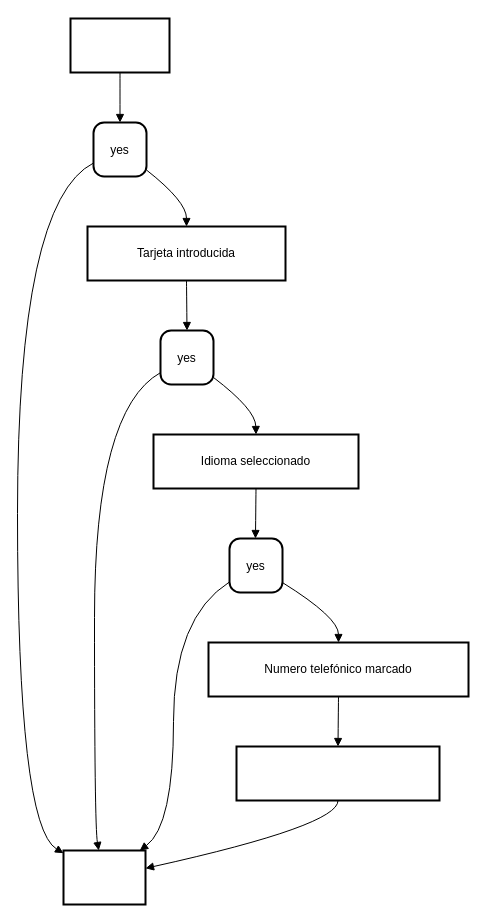
Some shapes in this 487 by 922 pixel diagram are drawn without their labels. The shapes that lost their labels are listed below. From the top down, each one's centre as x and y in pixels, then its label:
the point at 119,45: Inicio
the point at 337,773: Llamada en proceso
the point at 104,877: Fin
